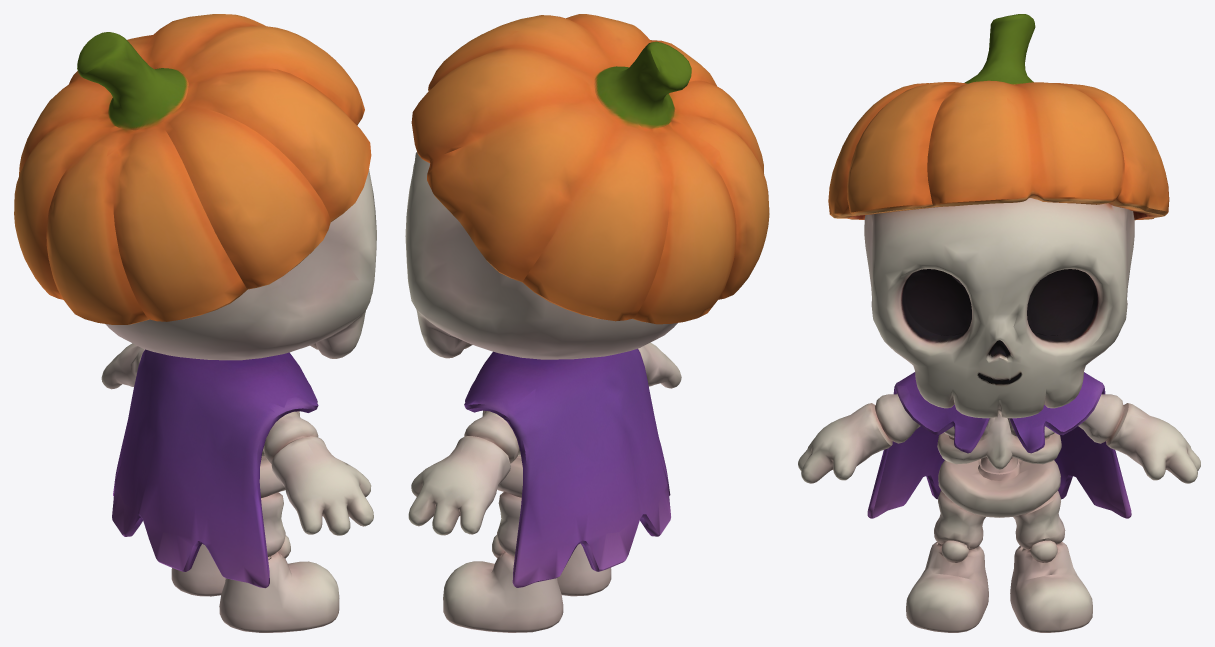
The model's file is E1_Skelly_LOD0.fbx.
3 views of the same model, side by side, from view 1: azimuth 30°, elevation 25°; view 2: azimuth 150°, elevation 25°; view 3: azimuth 270°, elevation 25° (orthographic). The views are drawn at different scales.
Visible parts, largest first — view 1: E1_Skelly_LOD0; view 2: E1_Skelly_LOD0; view 3: E1_Skelly_LOD0.
Boxes of the visible parts, box(x1,y1,x2,y2) form: E1_Skelly_LOD0: box(14, 14, 376, 632); E1_Skelly_LOD0: box(405, 14, 769, 632); E1_Skelly_LOD0: box(798, 14, 1200, 632).
Size of the model in its own units: 0.1142 by 0.2 by 0.1358.
Materials: 1 (1 with a texture image).
